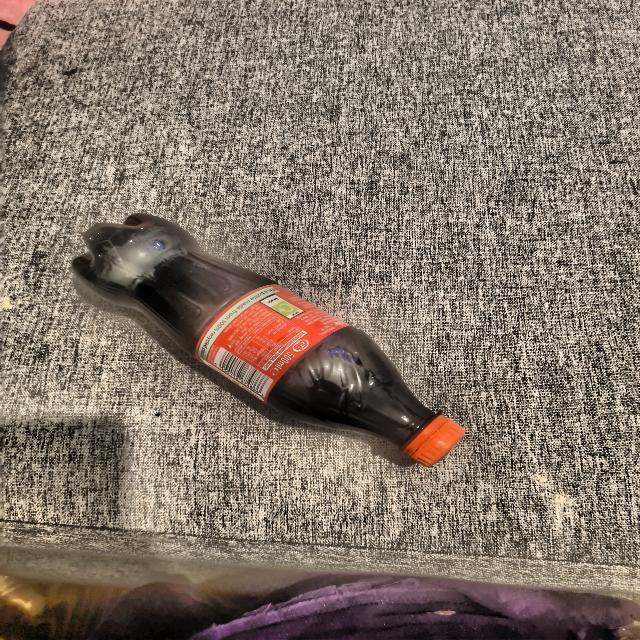coke-bottle: (86, 213, 468, 465)
